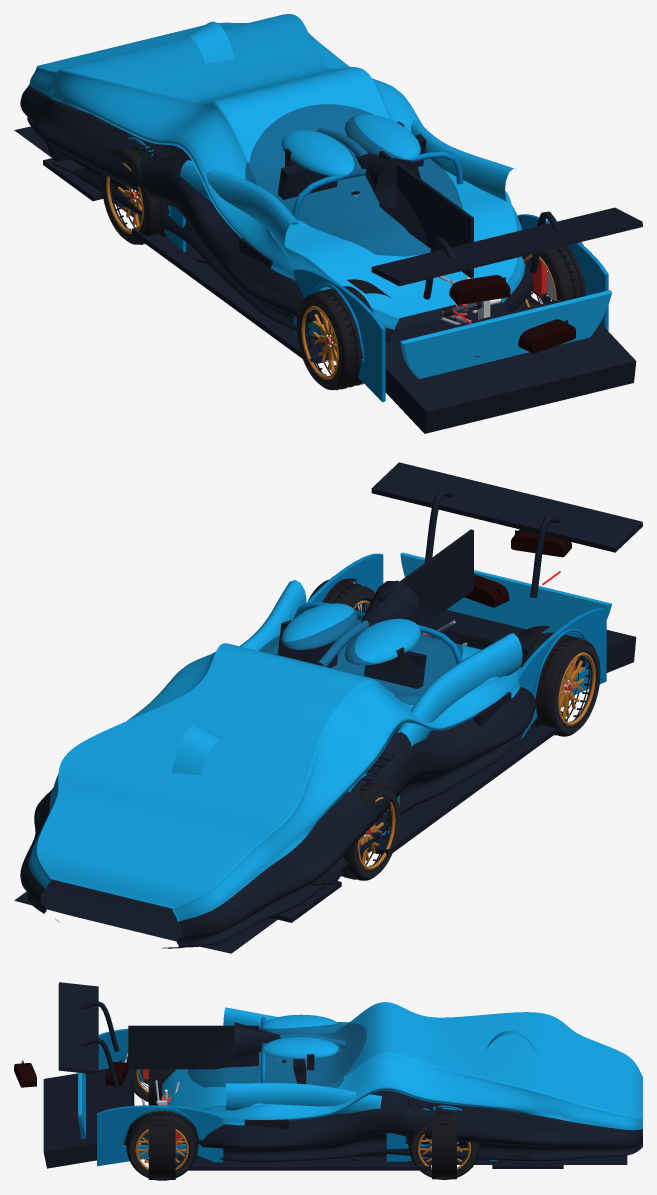
File: hypercar_apex_gt3.glb
3 renders of one model, top to bottom at view 1: azimuth 30°, elevation 25°; view 2: azimuth 150°, elevation 25°; view 3: azimuth 270°, elevation 25°, orthographic. The views are drawn at different scales.
Parts seen in each view (by area): view 1: Body_Upper_Shell_Paint, Body_Lower_Diffuser_Carbon, Rear_Venturi_Diffuser_Main, Teardrop_Cockpit_Canopy_Glass, Rear_Fascia_And_Venturi_Deck, Swan_Neck_Active_Rear_Wing, Tire_Seamless_Radial_Casing (×3), Double_Bubble_Roof_Assembly, Aero_Stabilizer_Shark_Fin, Rear_Fender_LH, Flank_LH, Side_Skirt_Aero_Blade_LH (+14 smaller); view 2: Body_Upper_Shell_Paint, Body_Lower_Diffuser_Carbon, Swan_Neck_Active_Rear_Wing, Teardrop_Cockpit_Canopy_Glass, Double_Bubble_Roof_Assembly, Rear_Fascia_And_Venturi_Deck, Tire_Seamless_Radial_Casing (×3), Flank_LH, Body_Flat_Floor_Carbon, Aero_Stabilizer_Shark_Fin, Rear_Venturi_Diffuser_Main, Side_Skirt_Aero_Blade_LH (+14 smaller); view 3: Body_Upper_Shell_Paint, Body_Lower_Diffuser_Carbon, Teardrop_Cockpit_Canopy_Glass, Rear_Venturi_Diffuser_Main, Aero_Stabilizer_Shark_Fin, Rear_Fender_RH, Swan_Neck_Active_Rear_Wing, Flank_RH, Double_Bubble_Roof_Assembly, Side_Skirt_Aero_Blade_RH, Front_Fender_RH, Tire_Seamless_Radial_Casing (×2) (+15 smaller).
Part boxes in pixels (x1,y1,x2,y2): Body_Upper_Shell_Paint: [29, 14, 525, 329]; Body_Lower_Diffuser_Carbon: [20, 85, 533, 341]; Rear_Venturi_Diffuser_Main: [385, 300, 636, 433]; Teardrop_Cockpit_Canopy_Glass: [245, 104, 462, 256]; Rear_Fascia_And_Venturi_Deck: [400, 290, 611, 378]; Swan_Neck_Active_Rear_Wing: [371, 207, 642, 286]; Tire_Seamless_Radial_Casing (×3): [104, 147, 585, 390]; Double_Bubble_Roof_Assembly: [281, 114, 420, 175]; Aero_Stabilizer_Shark_Fin: [379, 150, 473, 277]; Rear_Fender_LH: [293, 268, 391, 402]; Flank_LH: [179, 160, 299, 263]; Side_Skirt_Aero_Blade_LH: [132, 227, 326, 363]; Body_Upper_Shell_Paint: [29, 610, 520, 921]; Body_Lower_Diffuser_Carbon: [20, 686, 536, 948]; Swan_Neck_Active_Rear_Wing: [371, 462, 642, 552]; Teardrop_Cockpit_Canopy_Glass: [259, 603, 462, 704]; Double_Bubble_Roof_Assembly: [281, 603, 420, 667]; Rear_Fascia_And_Venturi_Deck: [400, 552, 611, 637]; Tire_Seamless_Radial_Casing (×3): [308, 579, 597, 880]; Flank_LH: [397, 633, 522, 817]; Body_Flat_Floor_Carbon: [14, 726, 535, 953]; Aero_Stabilizer_Shark_Fin: [379, 529, 473, 625]; Rear_Venturi_Diffuser_Main: [365, 610, 636, 672]; Side_Skirt_Aero_Blade_LH: [374, 719, 567, 856]; Body_Upper_Shell_Paint: [162, 1002, 642, 1130]; Body_Lower_Diffuser_Carbon: [183, 1090, 642, 1162]; Teardrop_Cockpit_Canopy_Glass: [188, 1022, 366, 1087]; Rear_Venturi_Diffuser_Main: [43, 1068, 134, 1168]; Aero_Stabilizer_Shark_Fin: [128, 1025, 258, 1069]; Rear_Fender_RH: [97, 1105, 223, 1179]; Swan_Neck_Active_Rear_Wing: [58, 982, 98, 1074]; Flank_RH: [225, 1083, 381, 1161]; Double_Bubble_Roof_Assembly: [261, 1014, 345, 1058]; Side_Skirt_Aero_Blade_RH: [175, 1161, 431, 1170]; Front_Fender_RH: [386, 1105, 496, 1179]; Tire_Seamless_Radial_Casing (×2): [126, 1111, 479, 1180].
Size of the model in its own units: 2.26 by 1.3 by 6.02.
